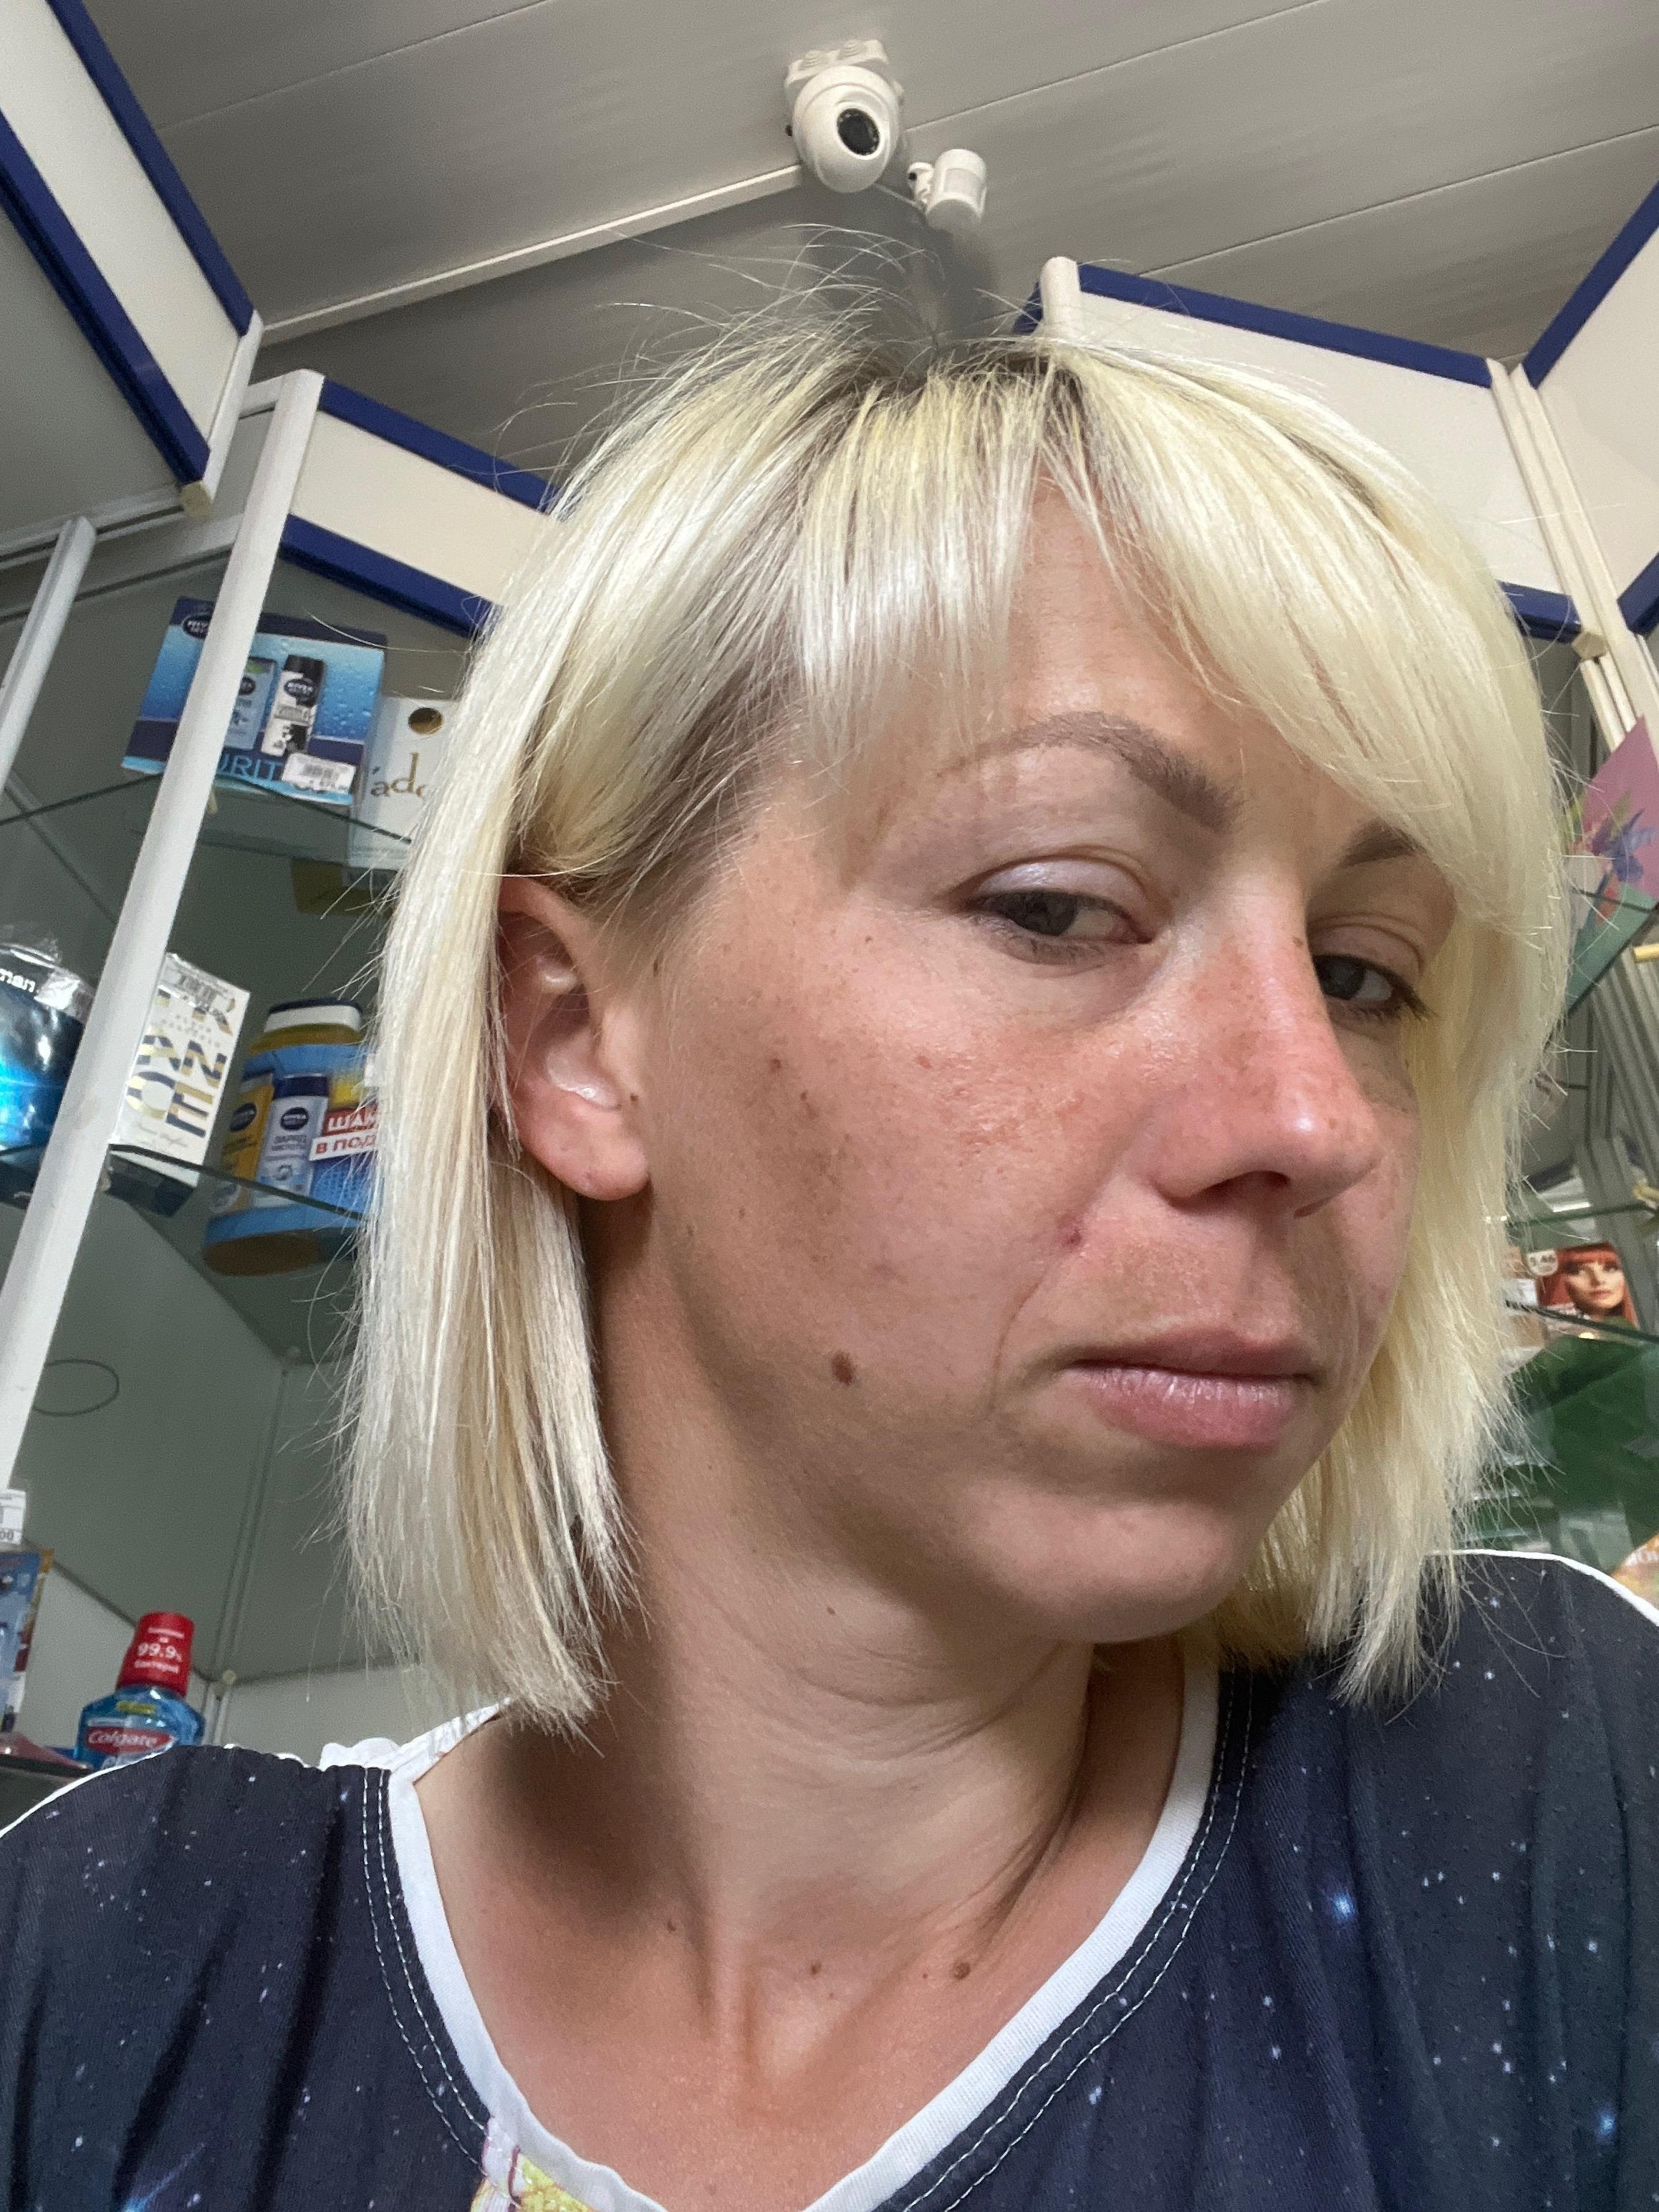Acne: (1047, 1202, 1091, 1258), (760, 1050, 786, 1078)
Englarged-Pores: (922, 1050, 1077, 1174)
Wrinkles: (981, 1270, 1049, 1421), (1319, 1223, 1361, 1399)
